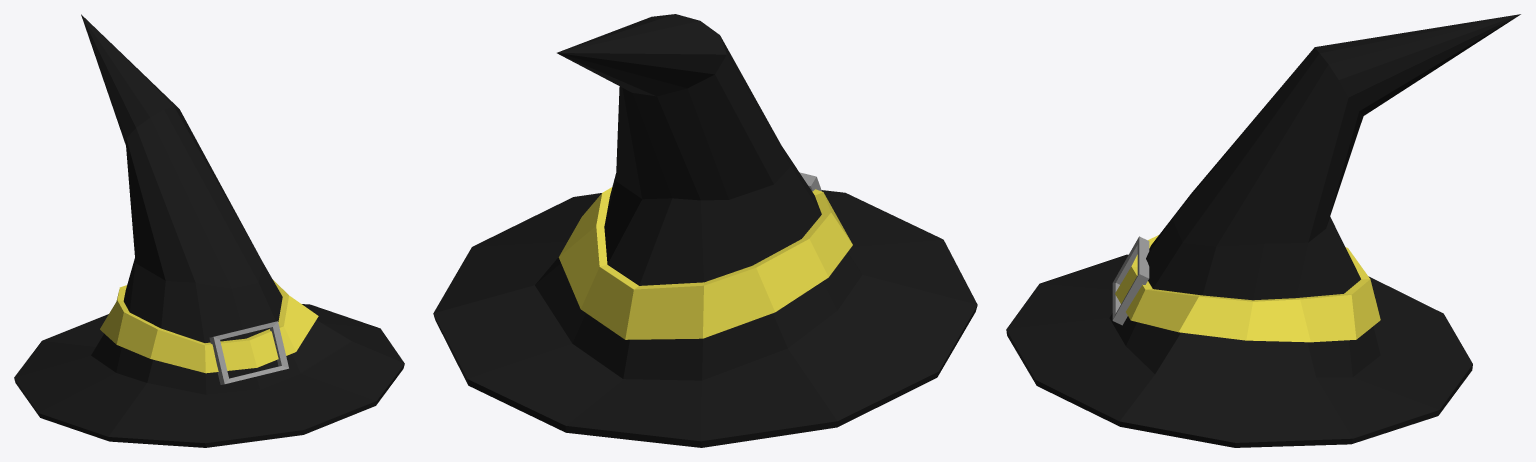
File: Wizard Hat.fbx
3 renders of one model, left to right at view 1: azimuth 30°, elevation 25°; view 2: azimuth 150°, elevation 25°; view 3: azimuth 270°, elevation 25°, orthographic. The views are drawn at different scales.
Visible parts, largest first — view 1: Cylinder.001; view 2: Cylinder.001; view 3: Cylinder.001.
Part boxes in pixels (bbox=[...]): Cylinder.001: bbox=[14, 14, 404, 447]; Cylinder.001: bbox=[433, 14, 977, 447]; Cylinder.001: bbox=[1006, 14, 1520, 447].
Bounding box in the file's own units: 132 × 108 × 145.
